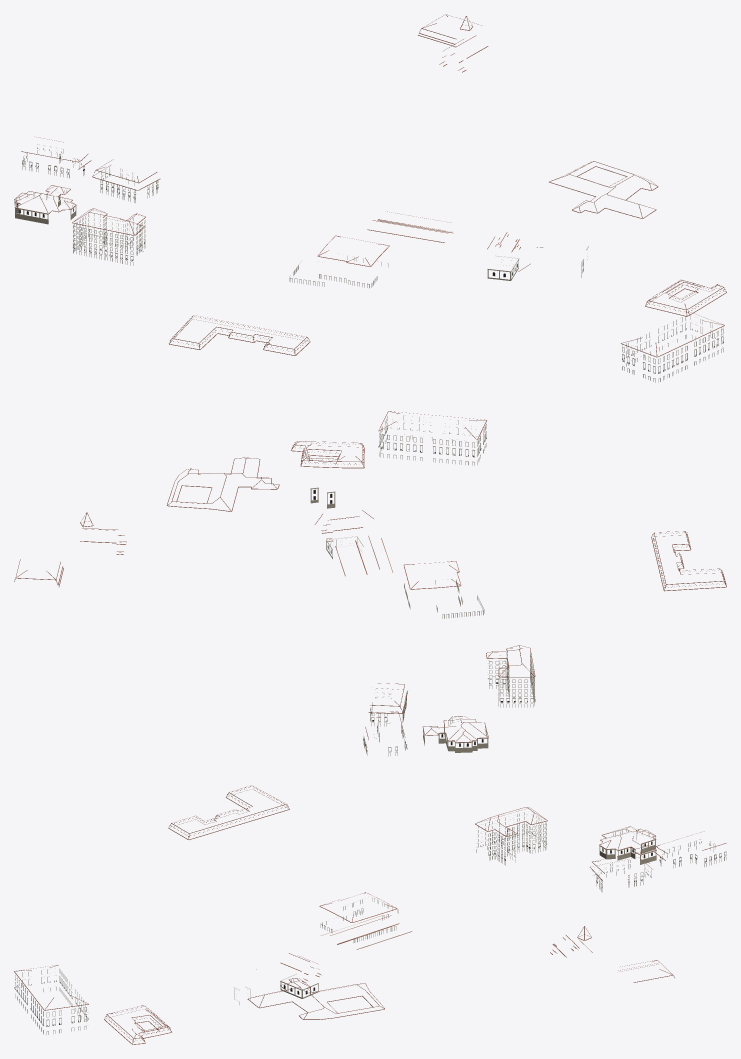
3 renders of one model, top to bottom at view 1: azimuth 30°, elevation 25°; view 2: azimuth 150°, elevation 25°; view 3: azimuth 270°, elevation 25°, orthographic. The views are drawn at different scales.
Visible parts, largest first — view 1: detail; view 2: detail; view 3: detail.
Boxes of the visible parts, box(x1,y1,x2,y2) form: detail: box(14, 14, 726, 382); detail: box(14, 411, 726, 756); detail: box(14, 785, 726, 1044).
Size of the model in its own units: 363 by 83.68 by 451.
